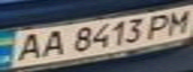1: (106, 18, 130, 47)
3: (124, 16, 151, 44)
4: (90, 20, 115, 50)
8: (69, 24, 97, 53)
A: (6, 30, 48, 63), (36, 27, 69, 58)
M: (160, 7, 193, 36)
P: (142, 11, 178, 39)
